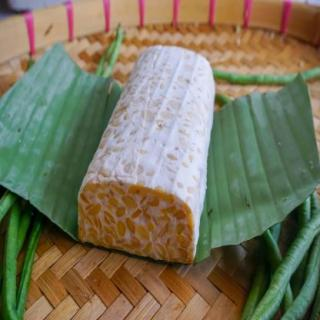Tempe: (73, 44, 218, 267)
